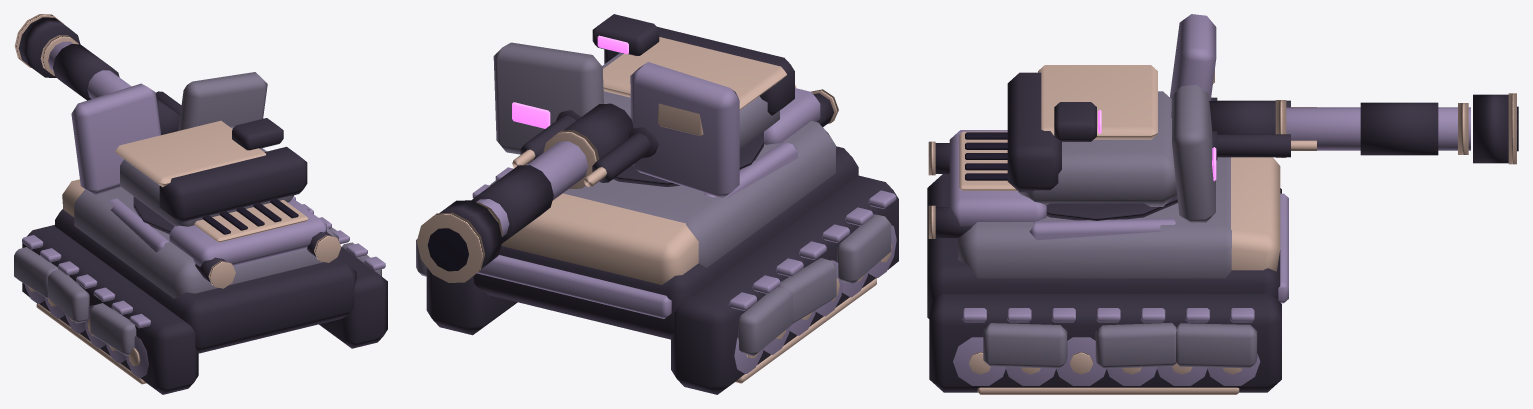
Rendered from vesper-siege-crawler.glb.
The picture shows the model from 3 angles, left to right: view 1: azimuth 30°, elevation 25°; view 2: azimuth 150°, elevation 25°; view 3: azimuth 270°, elevation 25°; orthographic projection. The views are drawn at different scales.
Visible parts, largest first — view 1: Vesper armored track pod, Vesper segmented track shield, Vesper road wheel, Vesper wheel hub, Artillery cannon assembly, Vesper engine cooling louver; view 2: Vesper armored track pod, Vesper segmented track shield, Vesper road wheel, Vesper wheel hub, Artillery cannon assembly, Vesper flank violet marker; view 3: Vesper segmented track shield, Vesper armored track pod, Vesper wheel hub, Vesper road wheel, Artillery cannon assembly, Vesper engine cooling louver.
Boxes of the visible parts, x1=… form: Vesper armored track pod: x1=22, y1=91, x2=387, y2=394; Vesper segmented track shield: x1=14, y1=72, x2=381, y2=355; Vesper road wheel: x1=22, y1=83, x2=385, y2=378; Vesper wheel hub: x1=28, y1=120, x2=341, y2=384; Artillery cannon assembly: x1=14, y1=14, x2=179, y2=134; Vesper engine cooling louver: x1=202, y1=199, x2=298, y2=234; Vesper armored track pod: x1=426, y1=14, x2=898, y2=394; Vesper segmented track shield: x1=416, y1=42, x2=891, y2=356; Vesper road wheel: x1=472, y1=62, x2=896, y2=373; Vesper wheel hub: x1=501, y1=37, x2=892, y2=383; Artillery cannon assembly: x1=416, y1=103, x2=633, y2=282; Vesper flank violet marker: x1=512, y1=35, x2=628, y2=128; Vesper segmented track shield: x1=958, y1=85, x2=1257, y2=368; Vesper armored track pod: x1=927, y1=72, x2=1290, y2=392; Vesper wheel hub: x1=928, y1=65, x2=1280, y2=394; Vesper road wheel: x1=949, y1=14, x2=1288, y2=385; Artillery cannon assembly: x1=1209, y1=93, x2=1518, y2=164; Vesper engine cooling louver: x1=965, y1=132, x2=1007, y2=180.
Size of the model in its own units: 1.98 by 1.52 by 3.05.
